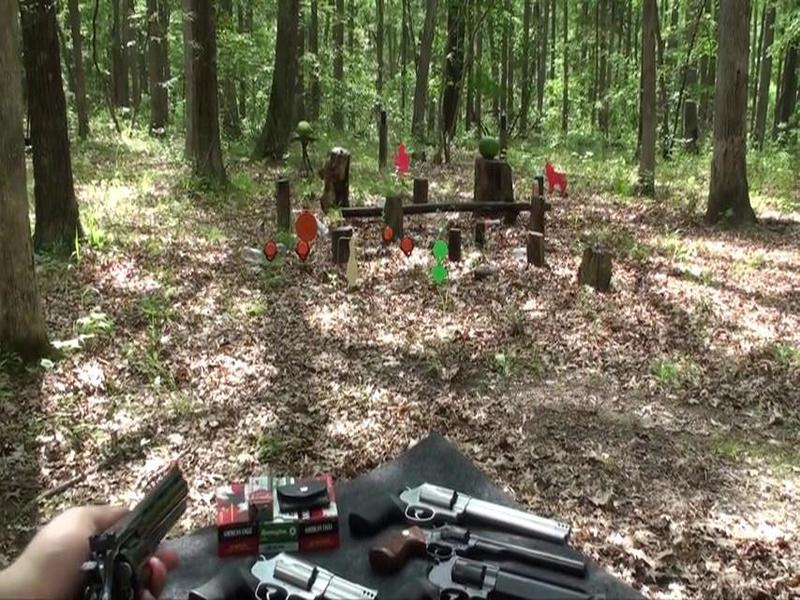Revolver: (59, 470, 193, 600)
